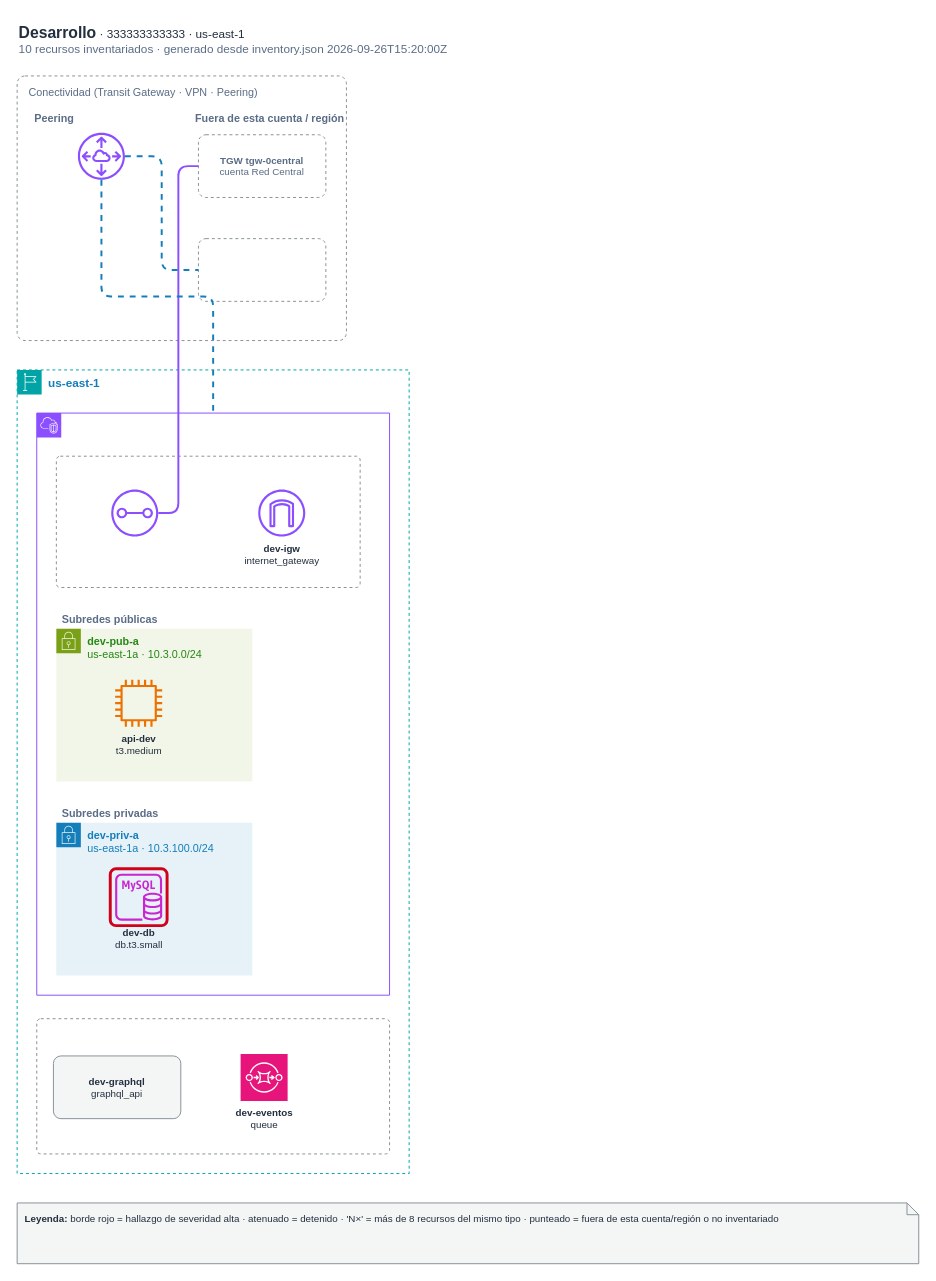
This 936x1281 diagram has some shape labels left out. Here are the shapes that lost their labels. From the top down, the box of each, then its label:
(77, 132, 124, 179): dev-a-prod peering · active
(197, 238, 326, 301): VPC vpc-0prod cuenta Produccion · us-east-1
(111, 489, 158, 536): dev-a-central → TGW tgw-0central
(55, 455, 360, 588): Nivel VPC (gateways, endpoints, attachments)
(36, 412, 390, 995): dev · vpc-0dev · 10.3.0.0/16
(36, 1018, 390, 1154): Servicios sin VPC (regionales / globales)
